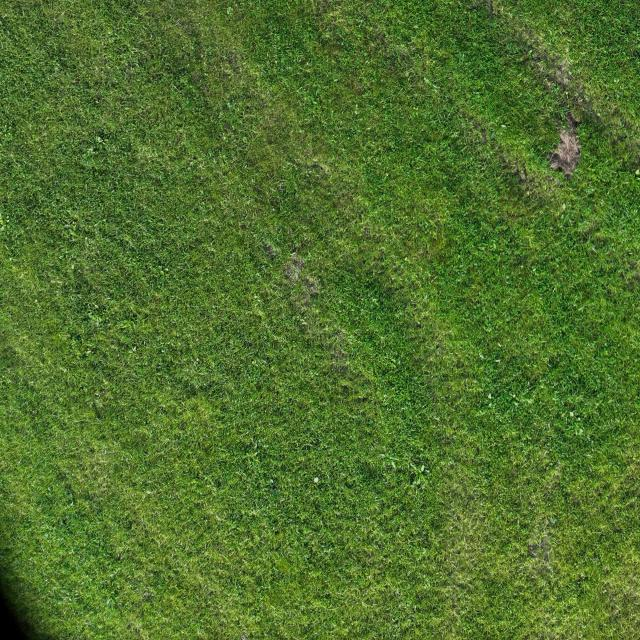rumex: (151, 502, 265, 632), (216, 493, 302, 581), (115, 111, 187, 181), (158, 355, 238, 417), (52, 210, 100, 275), (313, 4, 369, 51), (81, 132, 112, 162), (565, 412, 586, 436), (379, 452, 400, 473), (81, 147, 98, 168), (545, 353, 563, 372), (411, 469, 428, 489), (180, 382, 200, 399), (61, 220, 80, 233), (425, 78, 440, 94), (88, 314, 102, 328), (91, 401, 101, 419), (408, 470, 418, 486), (244, 366, 253, 382), (1, 129, 12, 142), (64, 510, 74, 524), (248, 451, 259, 462), (423, 76, 432, 89), (268, 478, 278, 489), (175, 18, 186, 28), (253, 439, 262, 450), (576, 304, 587, 312), (105, 596, 112, 608), (270, 487, 279, 496), (226, 6, 234, 16), (215, 512, 223, 522), (452, 608, 460, 618), (550, 515, 558, 525), (70, 229, 79, 237), (371, 297, 379, 306), (404, 69, 412, 78), (314, 86, 320, 98), (66, 499, 73, 509), (528, 237, 534, 248), (129, 348, 137, 356), (96, 136, 104, 144), (250, 509, 257, 518), (209, 245, 216, 254), (585, 188, 594, 195), (491, 240, 497, 250), (62, 222, 72, 228), (86, 149, 94, 156), (124, 235, 132, 242), (254, 272, 261, 280), (332, 77, 340, 84), (353, 107, 359, 116), (0, 223, 6, 232), (0, 217, 6, 226), (528, 49, 534, 58), (525, 398, 534, 404), (395, 588, 401, 597), (420, 463, 426, 472), (551, 286, 557, 295), (251, 361, 258, 368), (423, 468, 430, 475), (71, 216, 78, 223), (160, 268, 166, 276), (301, 318, 307, 326), (145, 489, 153, 495), (490, 132, 496, 140), (613, 76, 619, 84), (325, 28, 331, 36), (96, 96, 102, 104), (384, 171, 389, 180), (34, 300, 40, 307), (85, 349, 91, 356), (92, 304, 99, 310), (404, 256, 410, 263), (226, 102, 232, 109), (478, 353, 484, 360), (545, 358, 551, 365), (391, 359, 396, 367), (70, 263, 75, 271), (636, 169, 640, 179), (569, 410, 574, 418), (413, 107, 419, 113), (488, 402, 494, 408), (514, 401, 520, 407), (54, 66, 60, 72), (495, 358, 501, 364), (562, 202, 566, 211), (132, 345, 137, 352), (289, 129, 294, 136), (488, 392, 492, 400), (29, 380, 35, 385), (510, 393, 516, 398), (576, 417, 581, 423), (95, 393, 100, 399), (497, 342, 502, 348), (501, 124, 507, 129), (526, 190, 530, 197), (160, 348, 165, 353), (212, 486, 216, 492), (546, 423, 550, 428)
